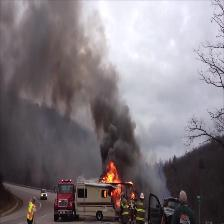fire: (104, 167, 122, 195)
smoke: (83, 49, 134, 167), (30, 4, 80, 107)
